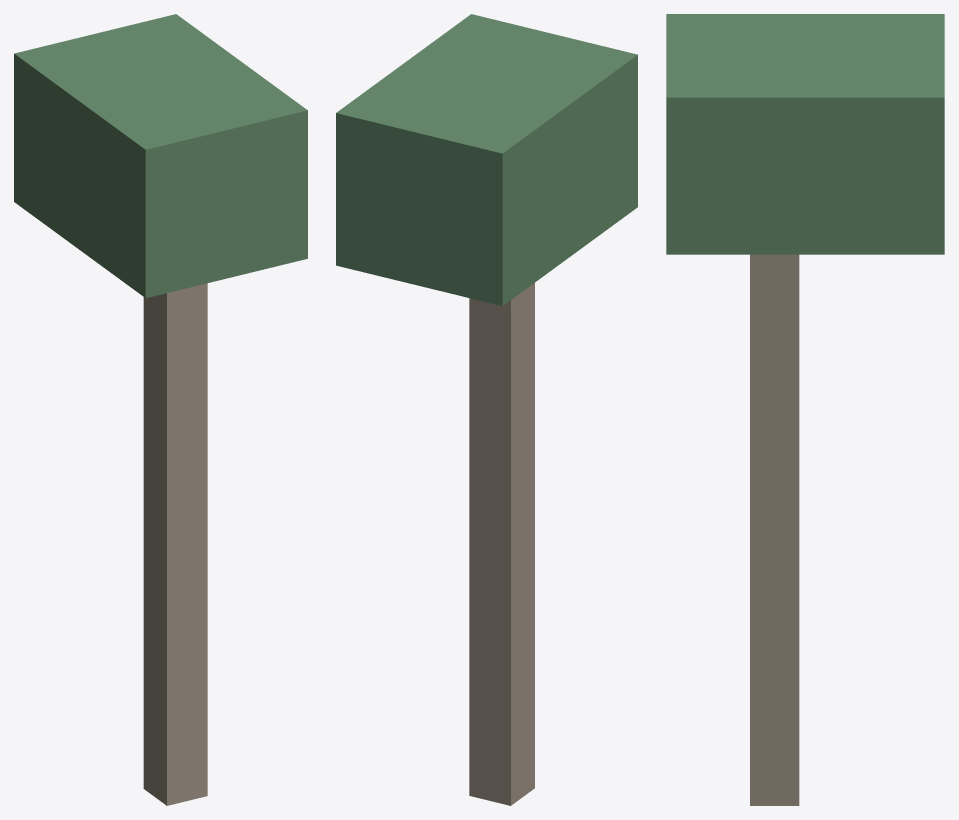
File: mailbox.glb
3 views of the same model, side by side, from view 1: azimuth 30°, elevation 25°; view 2: azimuth 150°, elevation 25°; view 3: azimuth 270°, elevation 25° (orthographic). The views are drawn at different scales.
Visible parts, largest first — view 1: mailbox_LOD0; view 2: mailbox_LOD0; view 3: mailbox_LOD0.
Boxes of the visible parts, bbox=[...] form: mailbox_LOD0: bbox=[14, 14, 307, 805]; mailbox_LOD0: bbox=[336, 14, 637, 805]; mailbox_LOD0: bbox=[666, 14, 944, 805].
Size of what is drawn, in the model's own units: 0.32 by 1.32 by 0.45.
